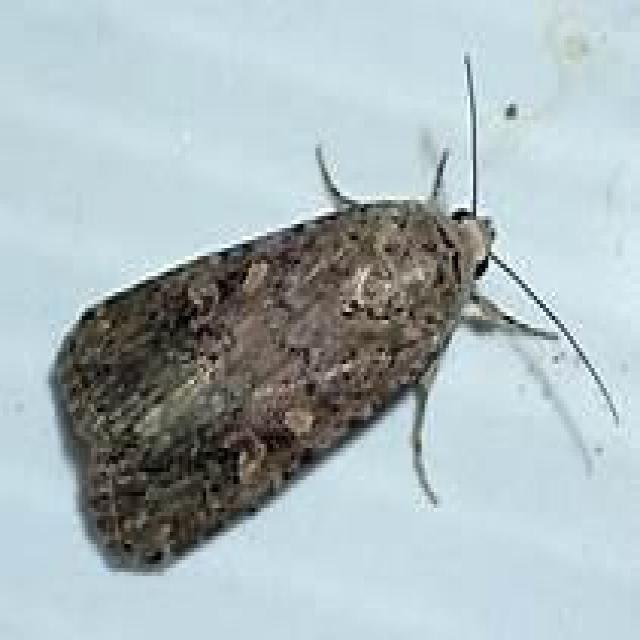BeetArmyWorm-Adult-: (26, 32, 606, 584)
